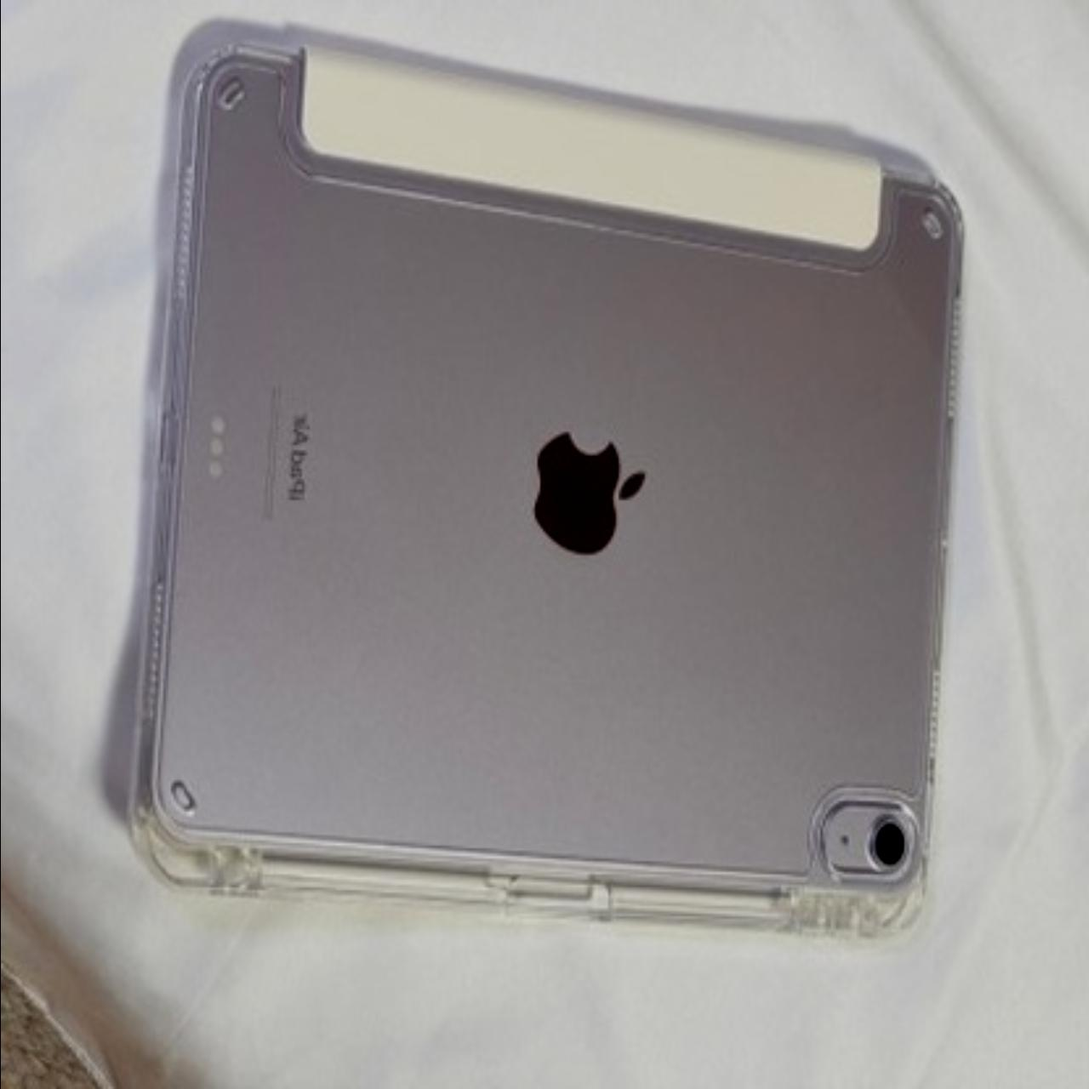Tablet_PC: (94, 13, 966, 960)
